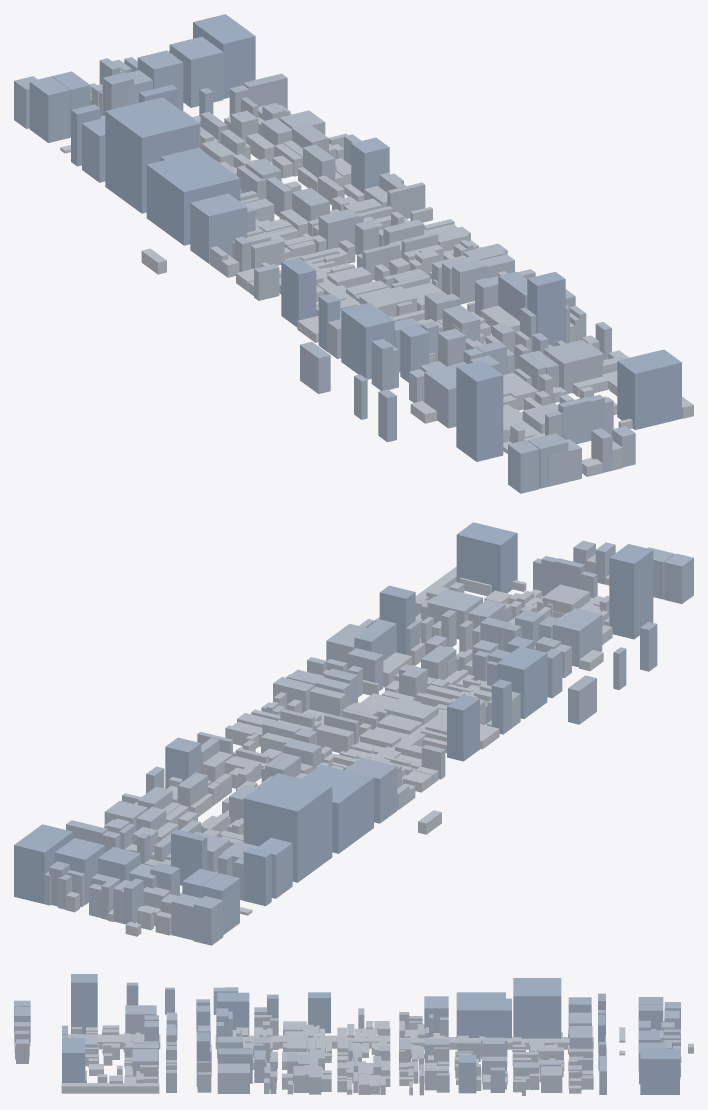
The picture shows the model from 3 angles, top to bottom: view 1: azimuth 30°, elevation 25°; view 2: azimuth 150°, elevation 25°; view 3: azimuth 270°, elevation 25°; orthographic projection. The views are drawn at different scales.
Bounding box in the file's own units: 309 × 89.21 × 1046.
